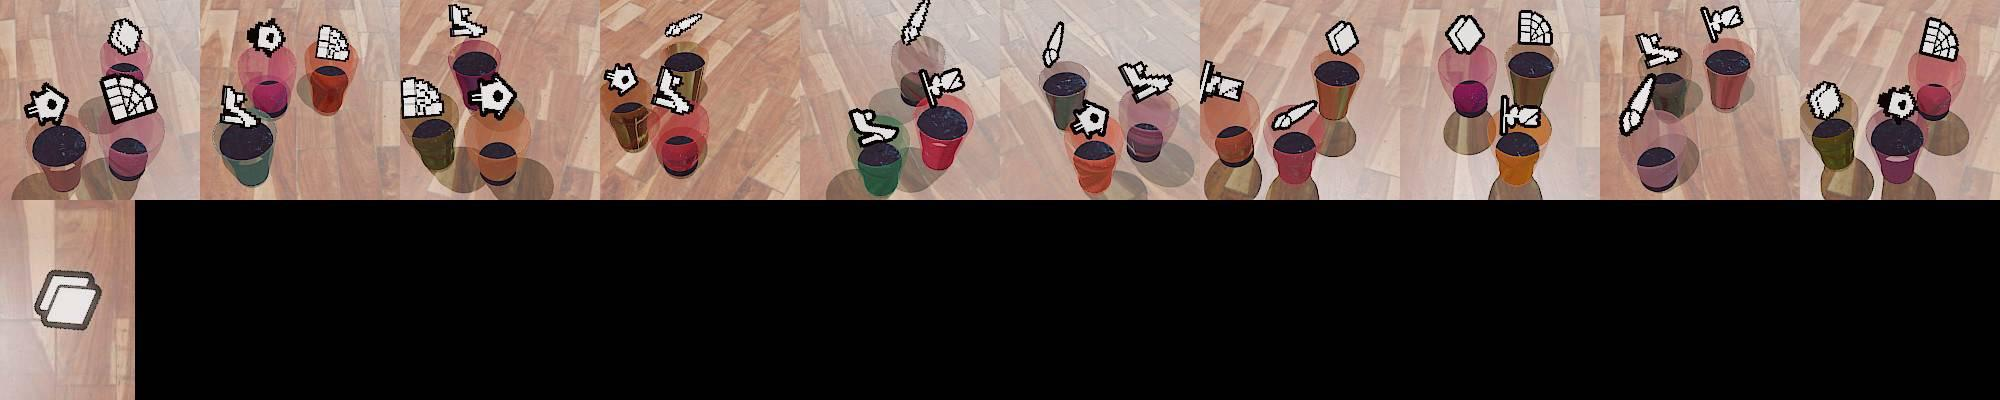icon: (33, 269, 103, 332), (99, 73, 159, 125), (1117, 57, 1173, 103), (1620, 74, 1658, 135), (471, 74, 519, 120), (849, 103, 901, 145), (23, 82, 70, 126), (218, 83, 263, 129), (401, 75, 446, 120), (651, 66, 693, 115), (918, 66, 966, 108), (1200, 61, 1244, 103), (1920, 17, 1959, 62), (1699, 4, 1744, 43), (245, 18, 287, 59), (1444, 14, 1486, 55), (1500, 94, 1545, 132), (1875, 85, 1920, 124), (1635, 32, 1681, 69), (1270, 98, 1318, 131), (1070, 99, 1110, 139), (106, 18, 147, 56), (448, 3, 487, 39), (1518, 8, 1555, 47), (1806, 80, 1843, 118), (899, 0, 930, 46), (314, 23, 349, 61), (602, 62, 639, 96), (1325, 19, 1358, 56), (663, 10, 704, 39), (1042, 19, 1065, 68)
